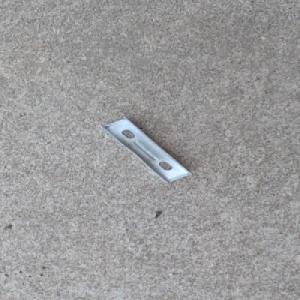ClampPart: (99, 115, 194, 184)
